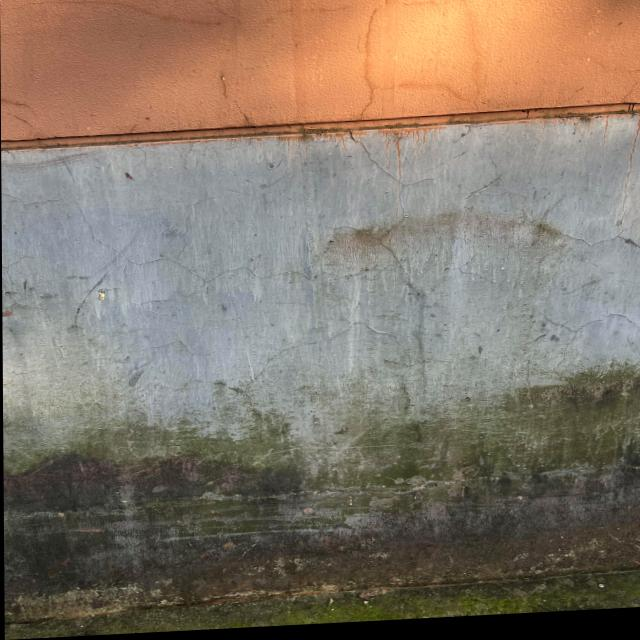crack: (122, 223, 281, 320), (552, 125, 640, 263), (519, 309, 633, 364)
damp: (296, 0, 546, 127)
mildew: (3, 372, 636, 634)
